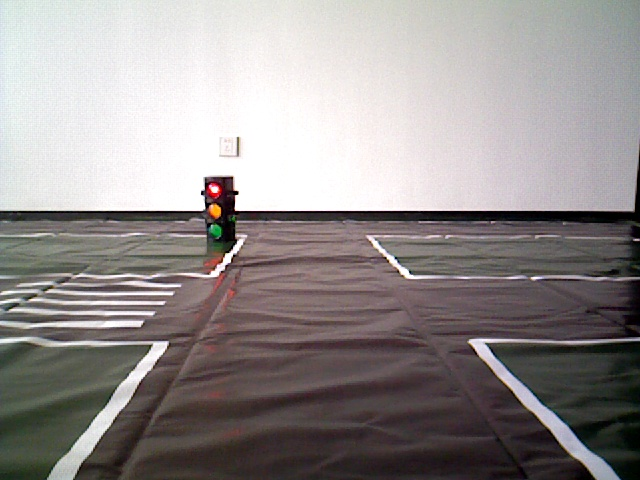red: (204, 177, 233, 245)
